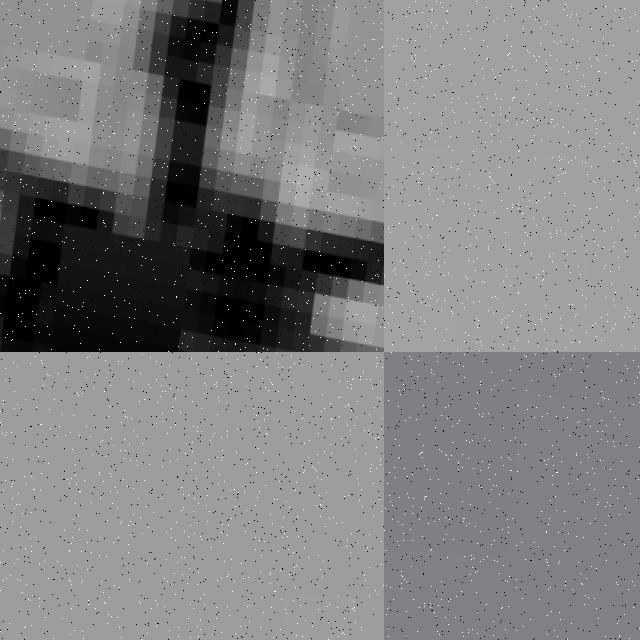drone: (0, 0, 384, 352)
